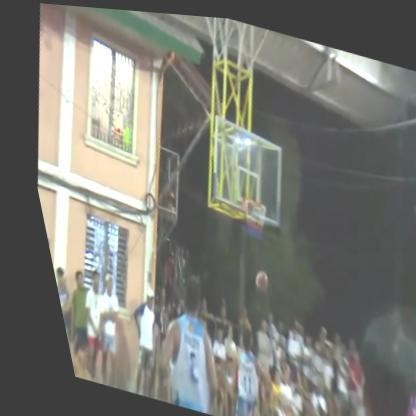basketball: (238, 262, 262, 292)
rim: (222, 187, 267, 252)
